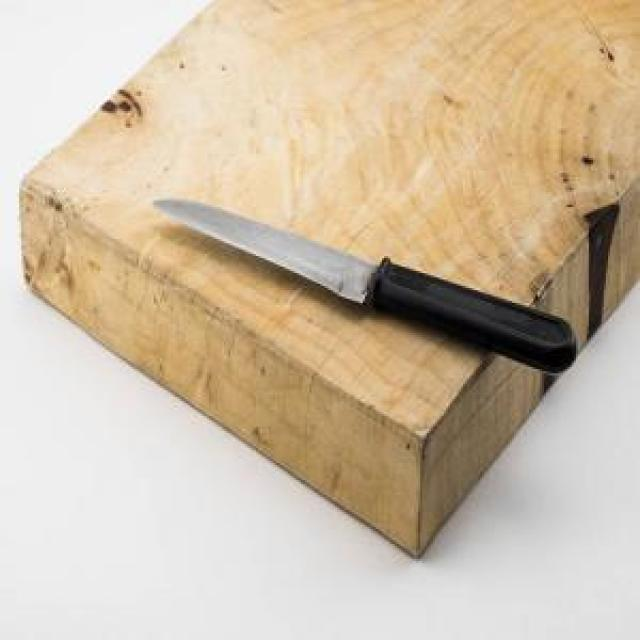knife: (152, 198, 580, 374)
